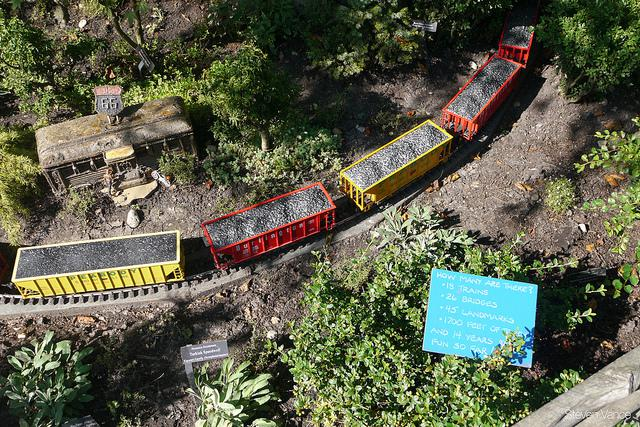Train: (11, 22, 542, 301)
